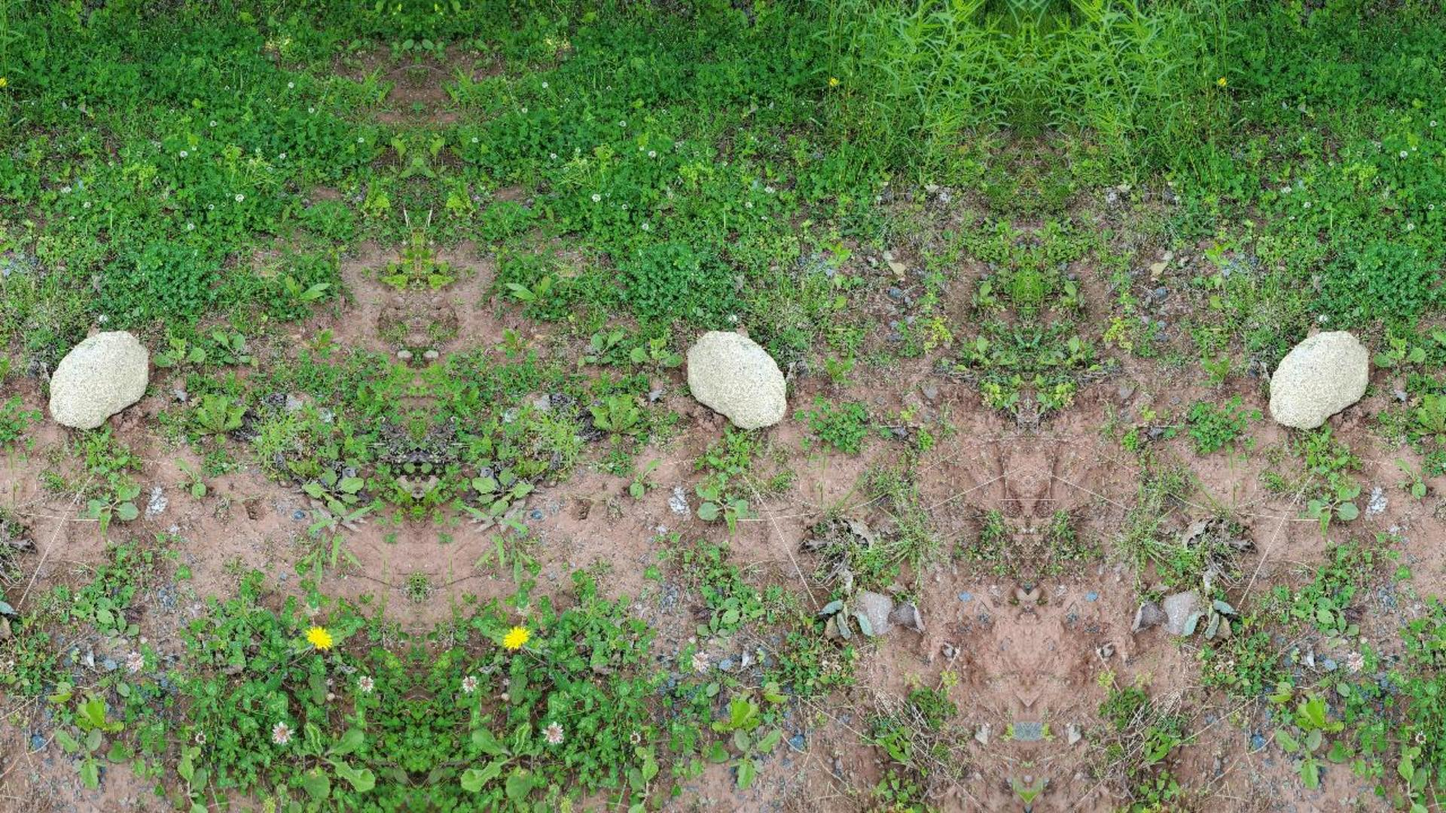rock: (688, 331, 786, 429), (49, 331, 148, 428), (1269, 331, 1368, 428)
